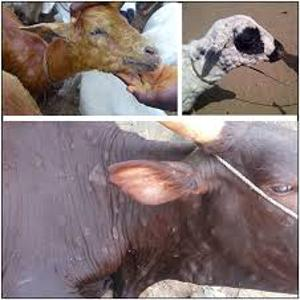lumpy skin diesease: (1, 119, 297, 298), (1, 0, 165, 108), (181, 13, 297, 114)
